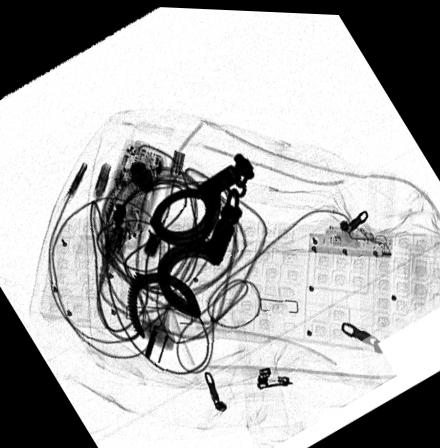HandCuffs: (125, 148, 254, 338)
